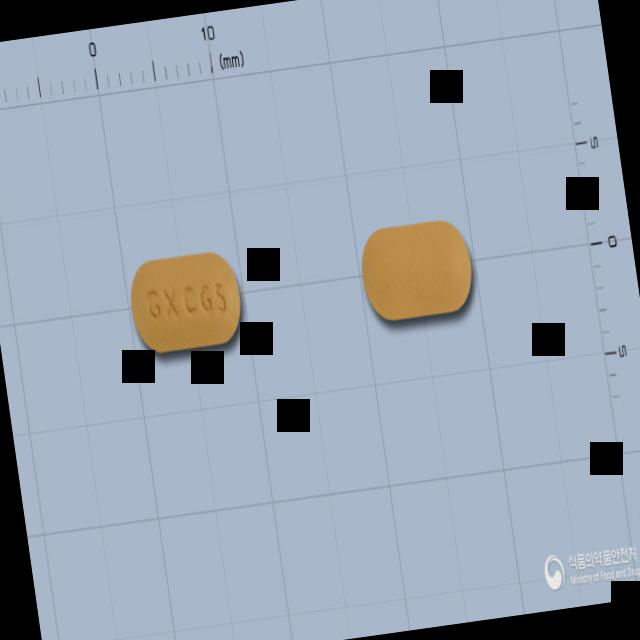Zeffix Tab: (124, 248, 249, 358)
